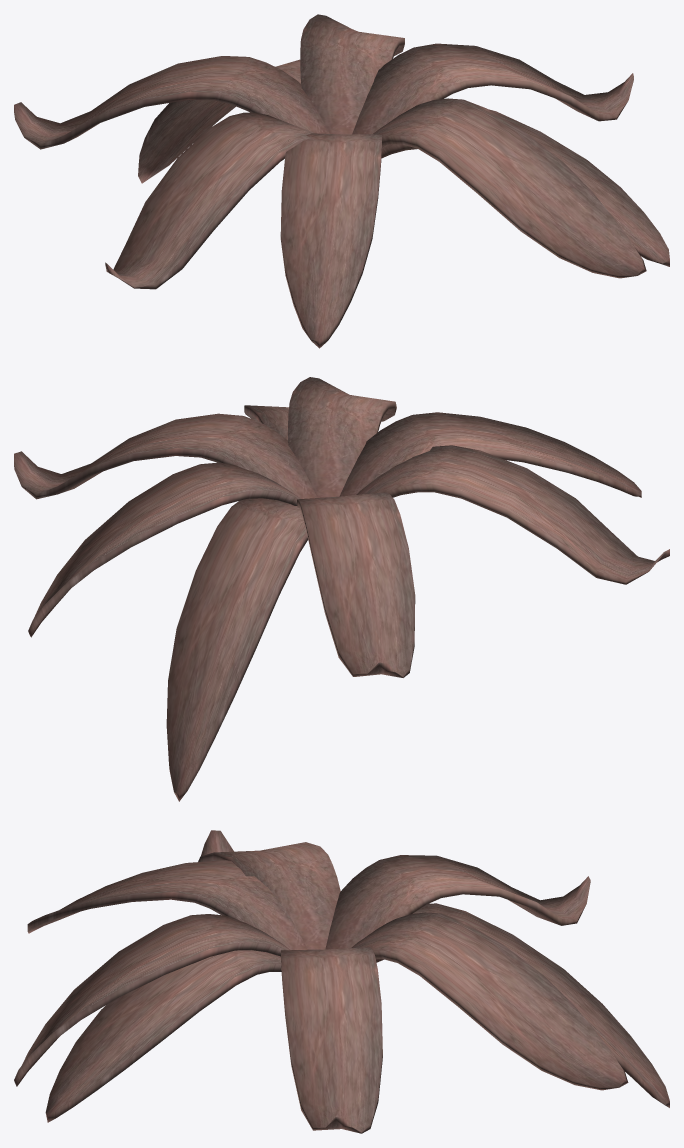
The model's file is calyx8_sb2_b.dae.
The picture shows the model from 3 angles, top to bottom: view 1: azimuth 30°, elevation 25°; view 2: azimuth 150°, elevation 25°; view 3: azimuth 270°, elevation 25°; orthographic projection.
Visible parts, largest first — view 1: calyx8, calyx6_001, calyx7_003, calyx7_002, calyx7, calyx8_001, calyx6, calyx9; view 2: calyx9, calyx7_002, calyx7_003, calyx7, calyx8_001, calyx6_001, calyx8, calyx6; view 3: calyx8_001, calyx7, calyx6, calyx7_002, calyx8, calyx6_001, calyx7_003, calyx9.
Part boxes in pixels (box(x1,y1,x2,y2)): calyx8: box(373, 98, 646, 278); calyx6_001: box(280, 133, 381, 348); calyx7_003: box(105, 112, 315, 289); calyx7_002: box(14, 56, 329, 149); calyx7: box(352, 43, 633, 134); calyx8_001: box(300, 14, 404, 134); calyx6: box(381, 109, 669, 266); calyx9: box(138, 59, 300, 183); calyx9: box(166, 498, 307, 801); calyx7_002: box(297, 492, 415, 677); calyx7_003: box(356, 445, 669, 584); calyx7: box(14, 413, 317, 499); calyx8_001: box(28, 462, 300, 637); calyx6_001: box(339, 412, 641, 497); calyx8: box(288, 377, 396, 497); calyx6: box(244, 405, 288, 440); calyx8_001: box(351, 912, 628, 1090); calyx7: box(281, 947, 382, 1133); calyx6: box(45, 950, 281, 1122); calyx7_002: box(325, 855, 590, 949); calyx8: box(14, 914, 290, 1086); calyx6_001: box(27, 860, 307, 957); calyx7_003: box(198, 830, 340, 949); calyx9: box(376, 903, 669, 1107).
Bounding box in the file's own units: 0.13 × 0.1249 × 0.0455.
8 materials, 8 textured.
